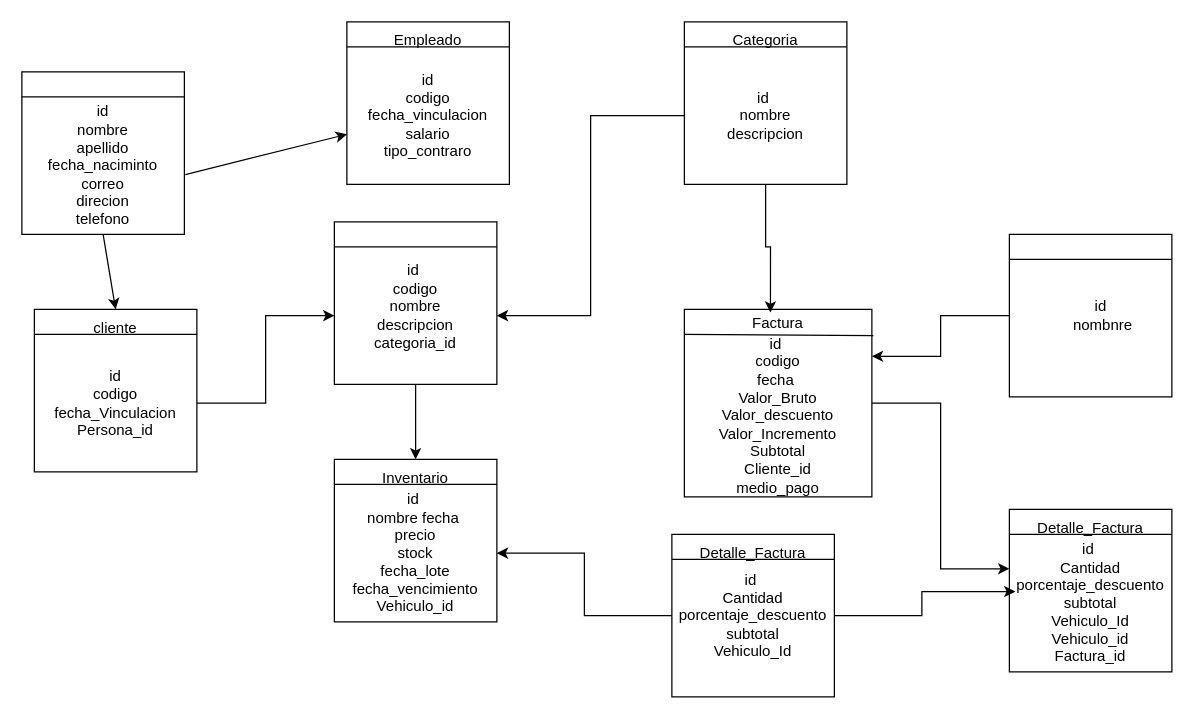
The diagram is 1195 pixels wide and 719 high, and some of its shapes have lost their labels. The shapes that lost their labels are listed below. From the top down, each one's box as (x1, y1, x2, y2) in pixels, then its label:
(21, 71, 184, 234): Persona
(333, 221, 497, 384): Vehiculo
(1008, 233, 1172, 397): Metodo_pago
